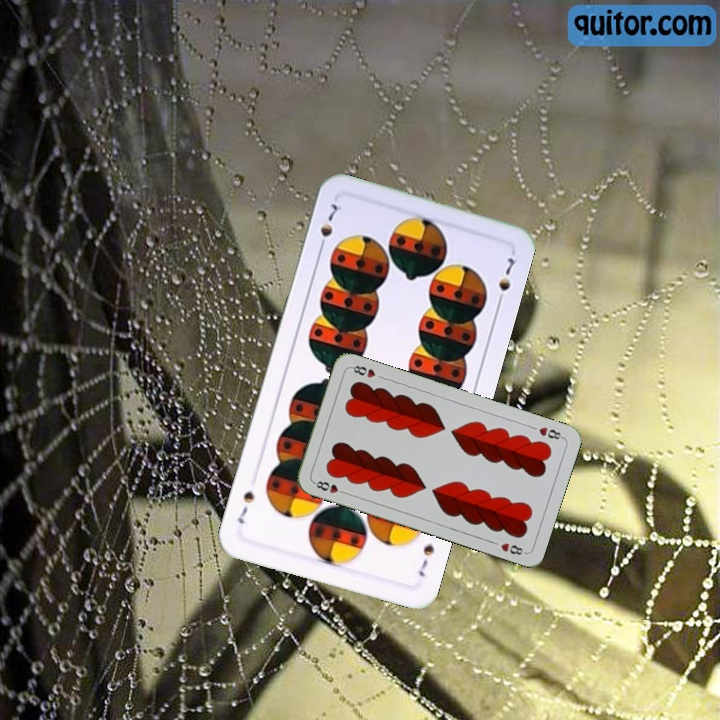H8: (310, 476, 349, 497), (535, 423, 566, 442)
S7: (314, 199, 344, 254), (414, 540, 437, 579)
